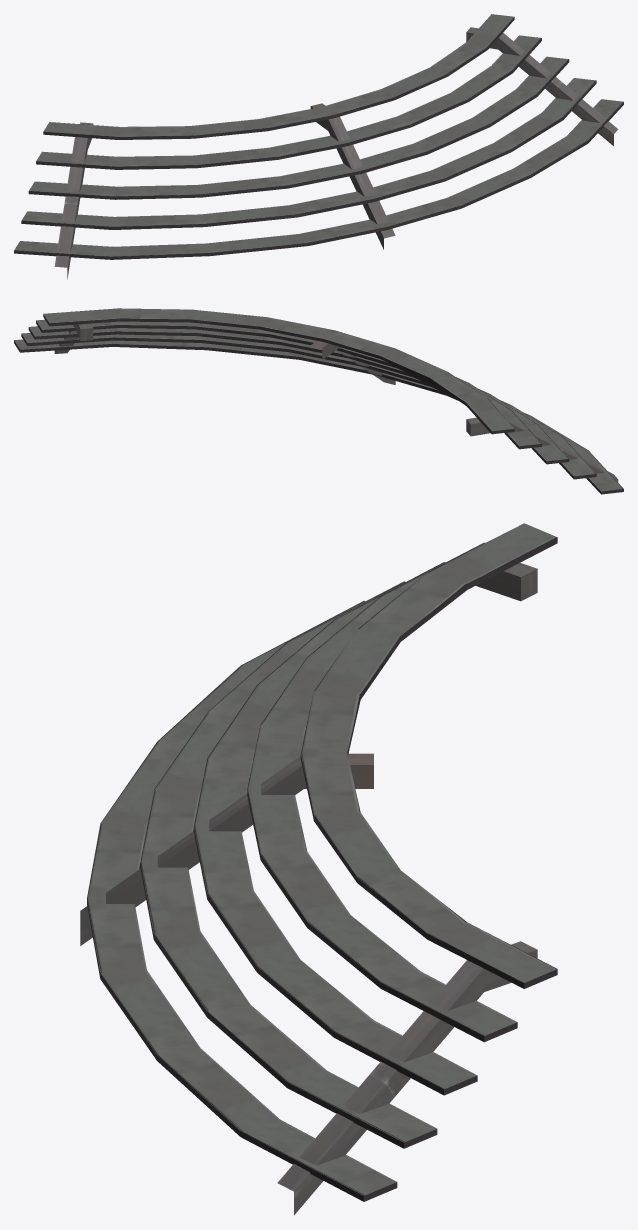
3 renders of one model, top to bottom at view 1: azimuth 30°, elevation 25°; view 2: azimuth 150°, elevation 25°; view 3: azimuth 270°, elevation 25°, orthographic. The views are drawn at different scales.
Visible parts, largest first — view 1: body0_model0_lod0_mesh0, body0_model0_lod0_mesh1, body0_model0_lod0_mesh2; view 2: body0_model0_lod0_mesh0, body0_model0_lod0_mesh1, body0_model0_lod0_mesh2; view 3: body0_model0_lod0_mesh0, body0_model0_lod0_mesh2, body0_model0_lod0_mesh1.
Boxes of the visible parts, x1=… form: body0_model0_lod0_mesh0: x1=14, y1=14, x2=623, y2=256; body0_model0_lod0_mesh1: x1=14, y1=17, x2=623, y2=259; body0_model0_lod0_mesh2: x1=54, y1=27, x2=618, y2=279; body0_model0_lod0_mesh0: x1=14, y1=308, x2=623, y2=491; body0_model0_lod0_mesh1: x1=14, y1=314, x2=623, y2=494; body0_model0_lod0_mesh2: x1=54, y1=323, x2=618, y2=482; body0_model0_lod0_mesh0: x1=87, y1=523, x2=557, y2=1195; body0_model0_lod0_mesh2: x1=80, y1=563, x2=537, y2=1215; body0_model0_lod0_mesh1: x1=87, y1=537, x2=557, y2=1201.
Bounding box in the file's own units: 422 × 61.98 × 143.
3 materials, 3 textured.
